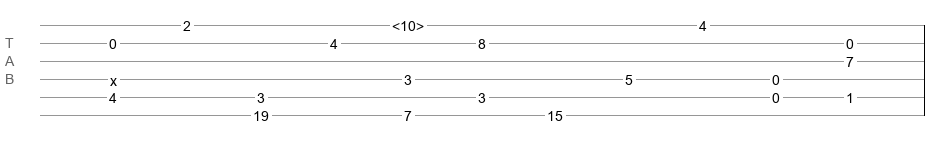0: (109, 36, 117, 46), (772, 72, 780, 82), (772, 90, 780, 100), (846, 36, 854, 46)
1: (846, 90, 854, 100)
15: (547, 108, 563, 118)
19: (253, 108, 269, 118)
2: (183, 18, 191, 28)
3: (257, 90, 265, 100), (404, 72, 412, 82), (478, 90, 486, 100)
4: (109, 90, 117, 100), (330, 36, 338, 46), (699, 18, 707, 28)
5: (625, 72, 633, 82)
7: (404, 108, 412, 118), (846, 54, 854, 64)
8: (478, 36, 486, 46)
harmonic: (392, 18, 424, 28)
x: (110, 73, 117, 81)
